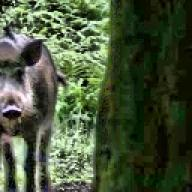boar: (0, 24, 68, 192)
